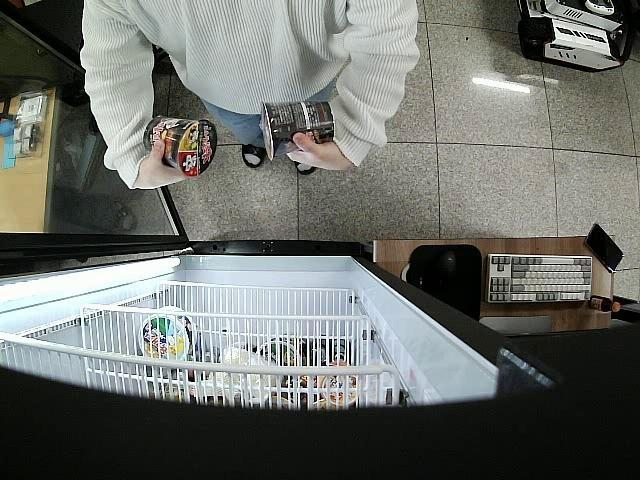08_buldak_S: (260, 99, 335, 165), (142, 115, 218, 178)
